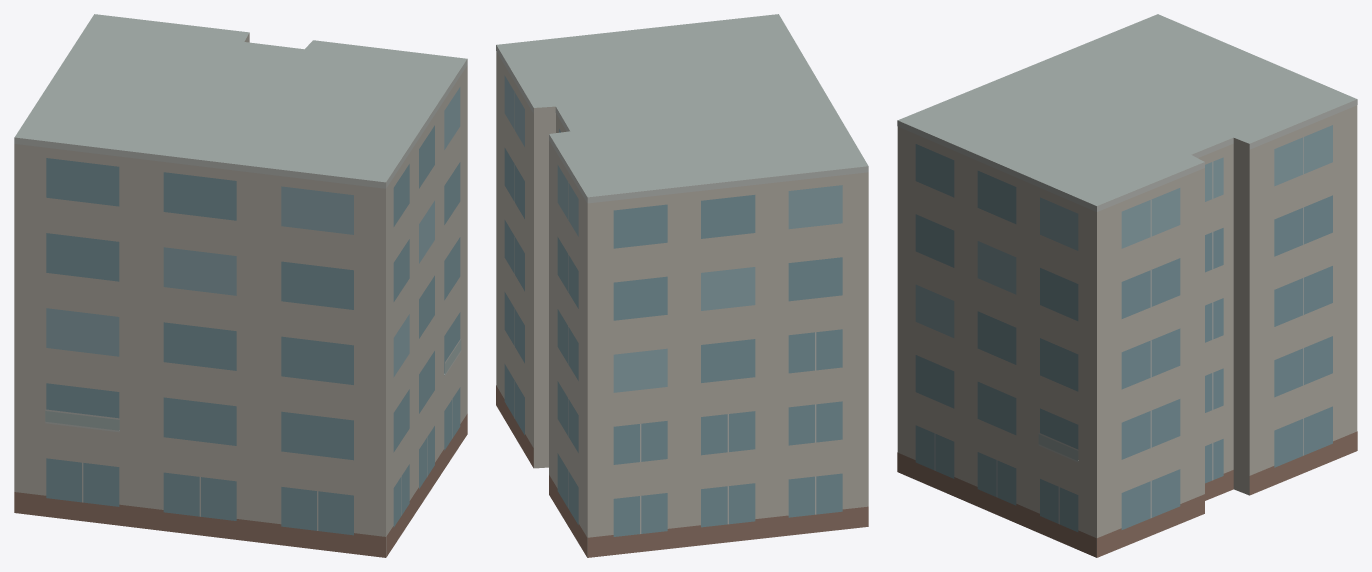
The model's file is survey-upis-32887647.glb.
The picture shows the model from 3 angles, left to right: view 1: azimuth 30°, elevation 25°; view 2: azimuth 150°, elevation 25°; view 3: azimuth 270°, elevation 25°; orthographic projection. The views are drawn at different scales.
Parts seen in each view (by area): view 1: survey-upis-32887647.tmp; view 2: survey-upis-32887647.tmp; view 3: survey-upis-32887647.tmp.
Part boxes in pixels (left/top/right/bottom): survey-upis-32887647.tmp: left=14, top=14, right=467, bottom=557; survey-upis-32887647.tmp: left=496, top=14, right=868, bottom=557; survey-upis-32887647.tmp: left=897, top=14, right=1357, bottom=557.
Bounding box in the file's own units: 16.88 × 14.4 × 17.07.
